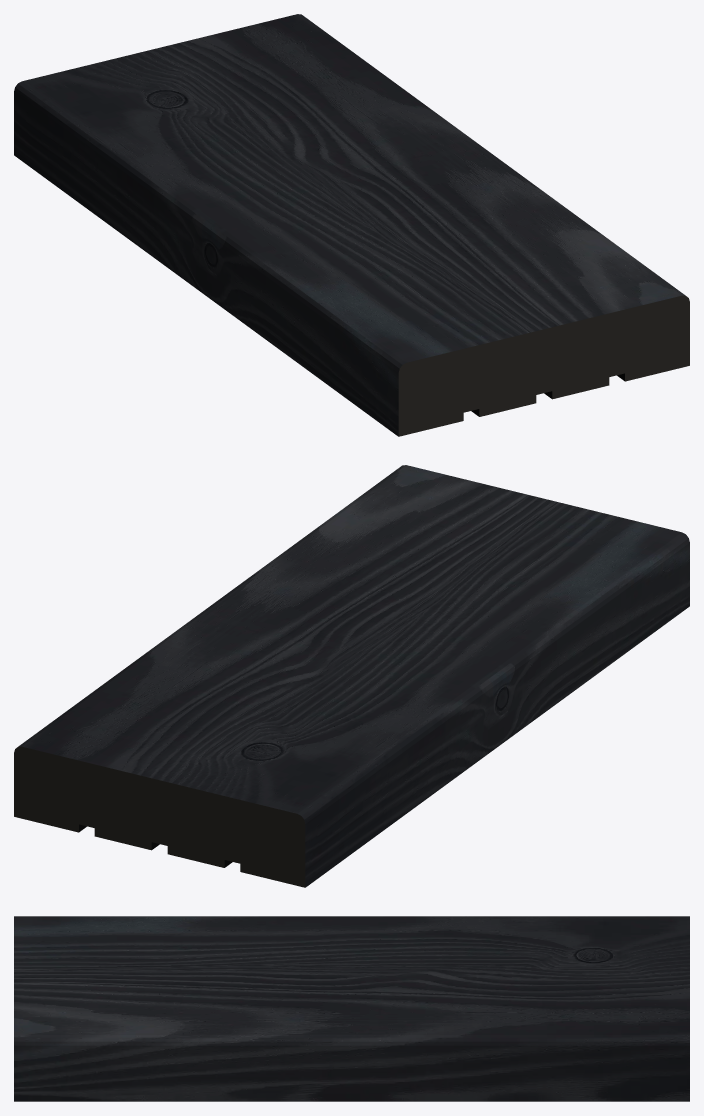
The model's file is larch-terrace-rectangular-black.glb.
The picture shows the model from 3 angles, top to bottom: view 1: azimuth 30°, elevation 25°; view 2: azimuth 150°, elevation 25°; view 3: azimuth 270°, elevation 25°; orthographic projection. The views are drawn at different scales.
Visible parts, largest first — view 1: Staciakampis; view 2: Staciakampis; view 3: Staciakampis.
Part boxes in pixels (left/top/right/bottom): Staciakampis: left=14, top=14, right=689, bottom=436; Staciakampis: left=14, top=465, right=689, bottom=887; Staciakampis: left=14, top=916, right=689, bottom=1101.
Bounding box in the file's own units: 0.0733 × 0.0173 × 0.1675.
Materials: 3 (1 with a texture image).
